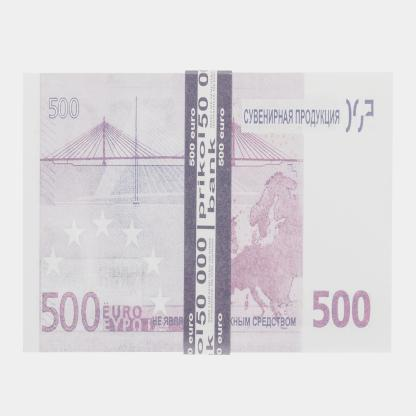euro_banknote: (24, 74, 391, 354)
